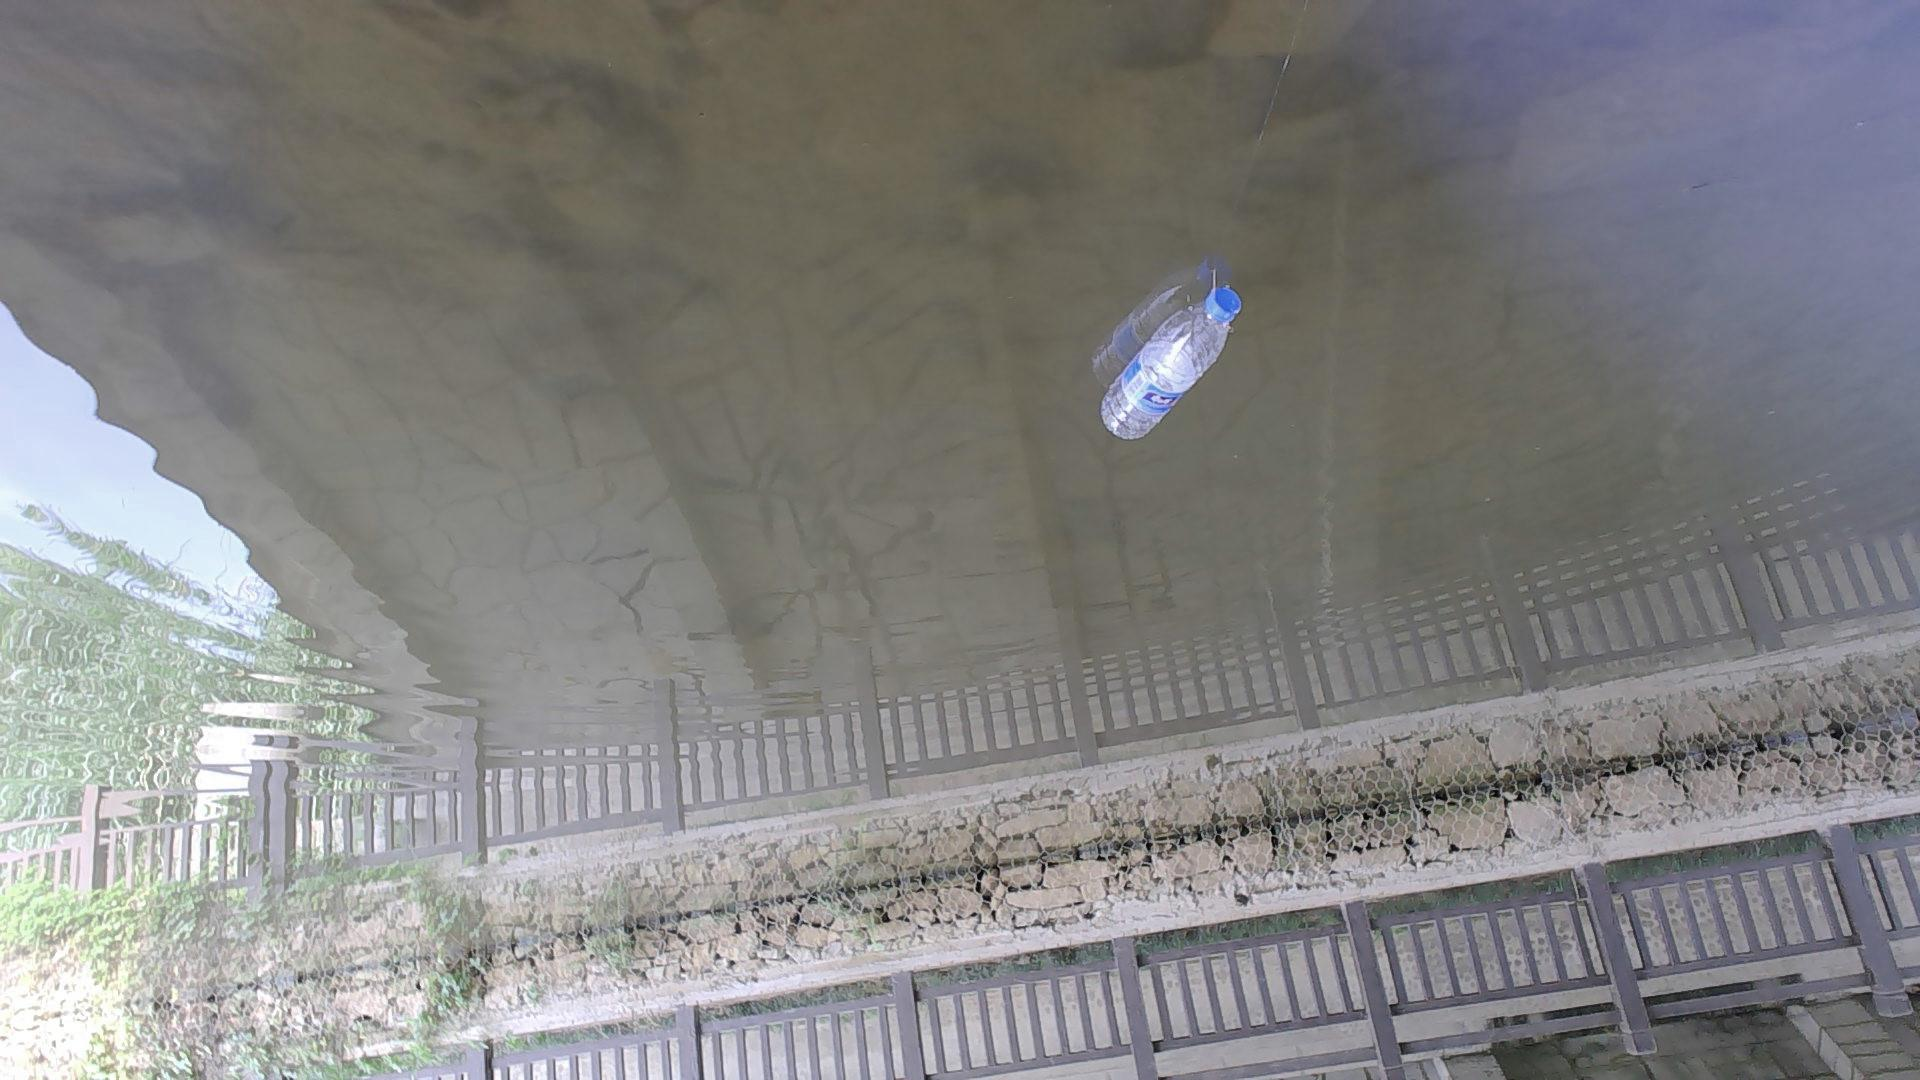Plastic: (1093, 284, 1244, 444)
